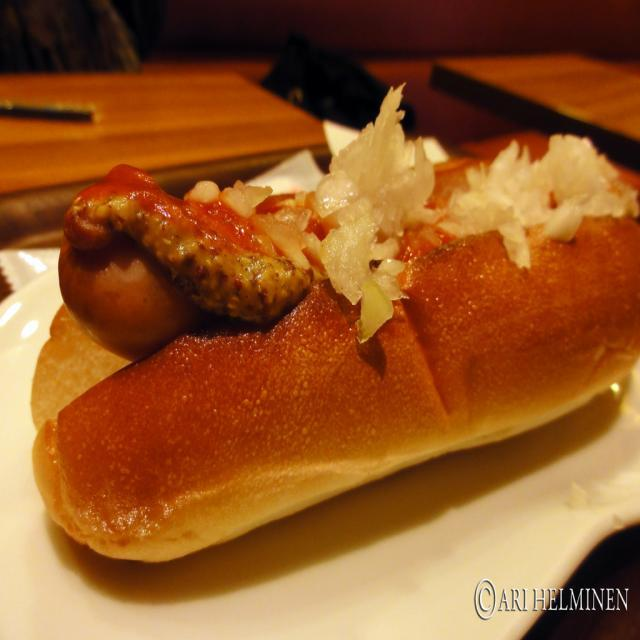Hot dog: (32, 76, 640, 572)
